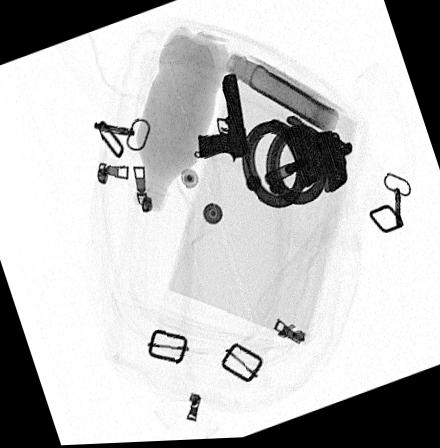Bullet: (263, 159, 310, 188)
Gun: (193, 73, 247, 161)
HandCuffs: (240, 116, 353, 212)
